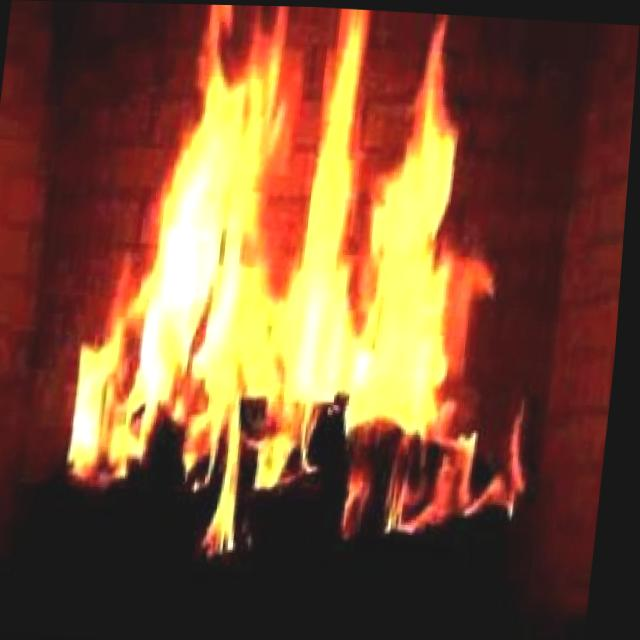no_helmet: (54, 2, 585, 584)
